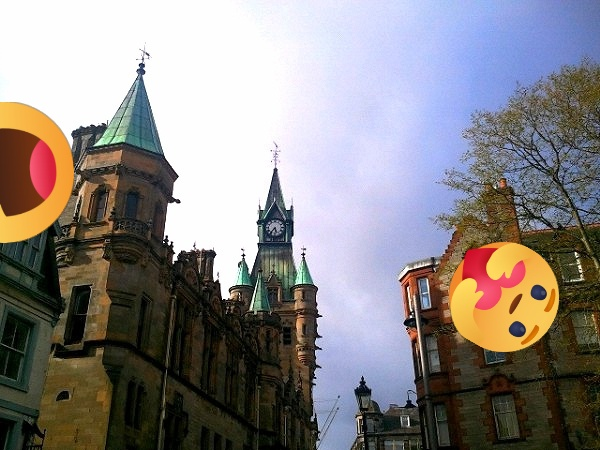care: (449, 242, 559, 352)
haha: (0, 102, 74, 243)
